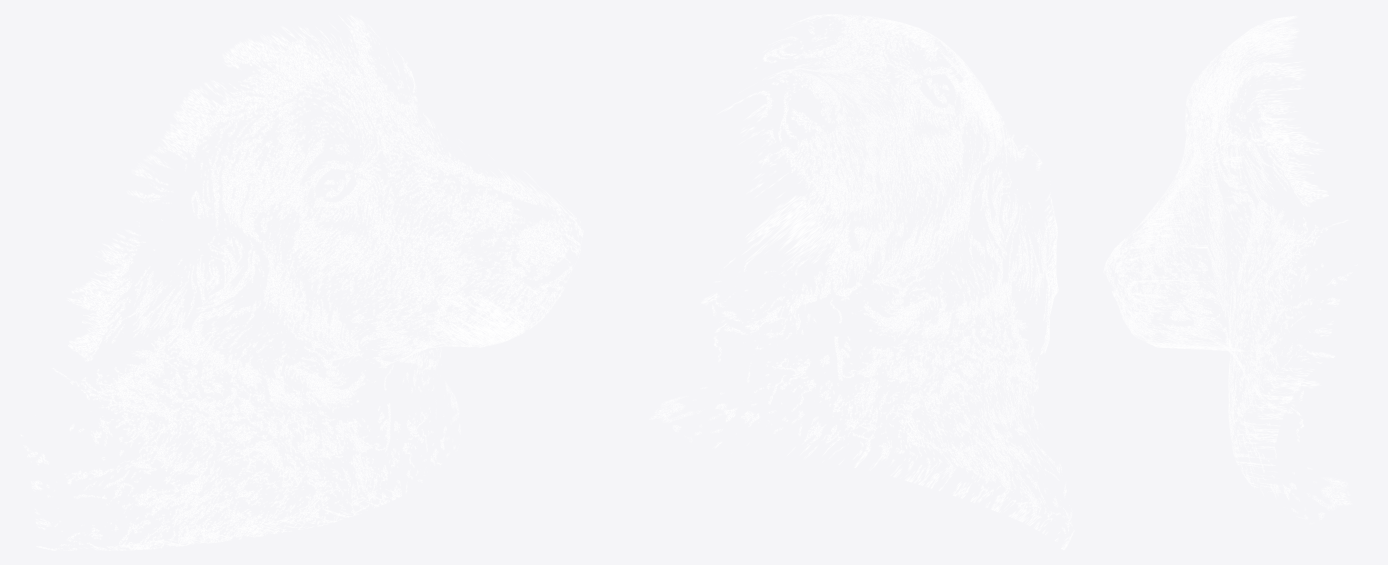
File: engraving_test_6_size_1250.glb
3 views of the same model, side by side, from view 1: azimuth 30°, elevation 25°; view 2: azimuth 150°, elevation 25°; view 3: azimuth 270°, elevation 25° (orthographic). The views are drawn at different scales.
Parts seen in each view (by area): view 1: mesh; view 2: mesh; view 3: mesh.
Boxes of the visible parts, x1,y1,x2,y2 form: mesh: [20, 15, 583, 550]; mesh: [649, 14, 1074, 549]; mesh: [1103, 15, 1357, 523].
Bounding box in the file's own units: 0.0502 × 0.0505 × 0.0292.
1 material, 1 textured.
